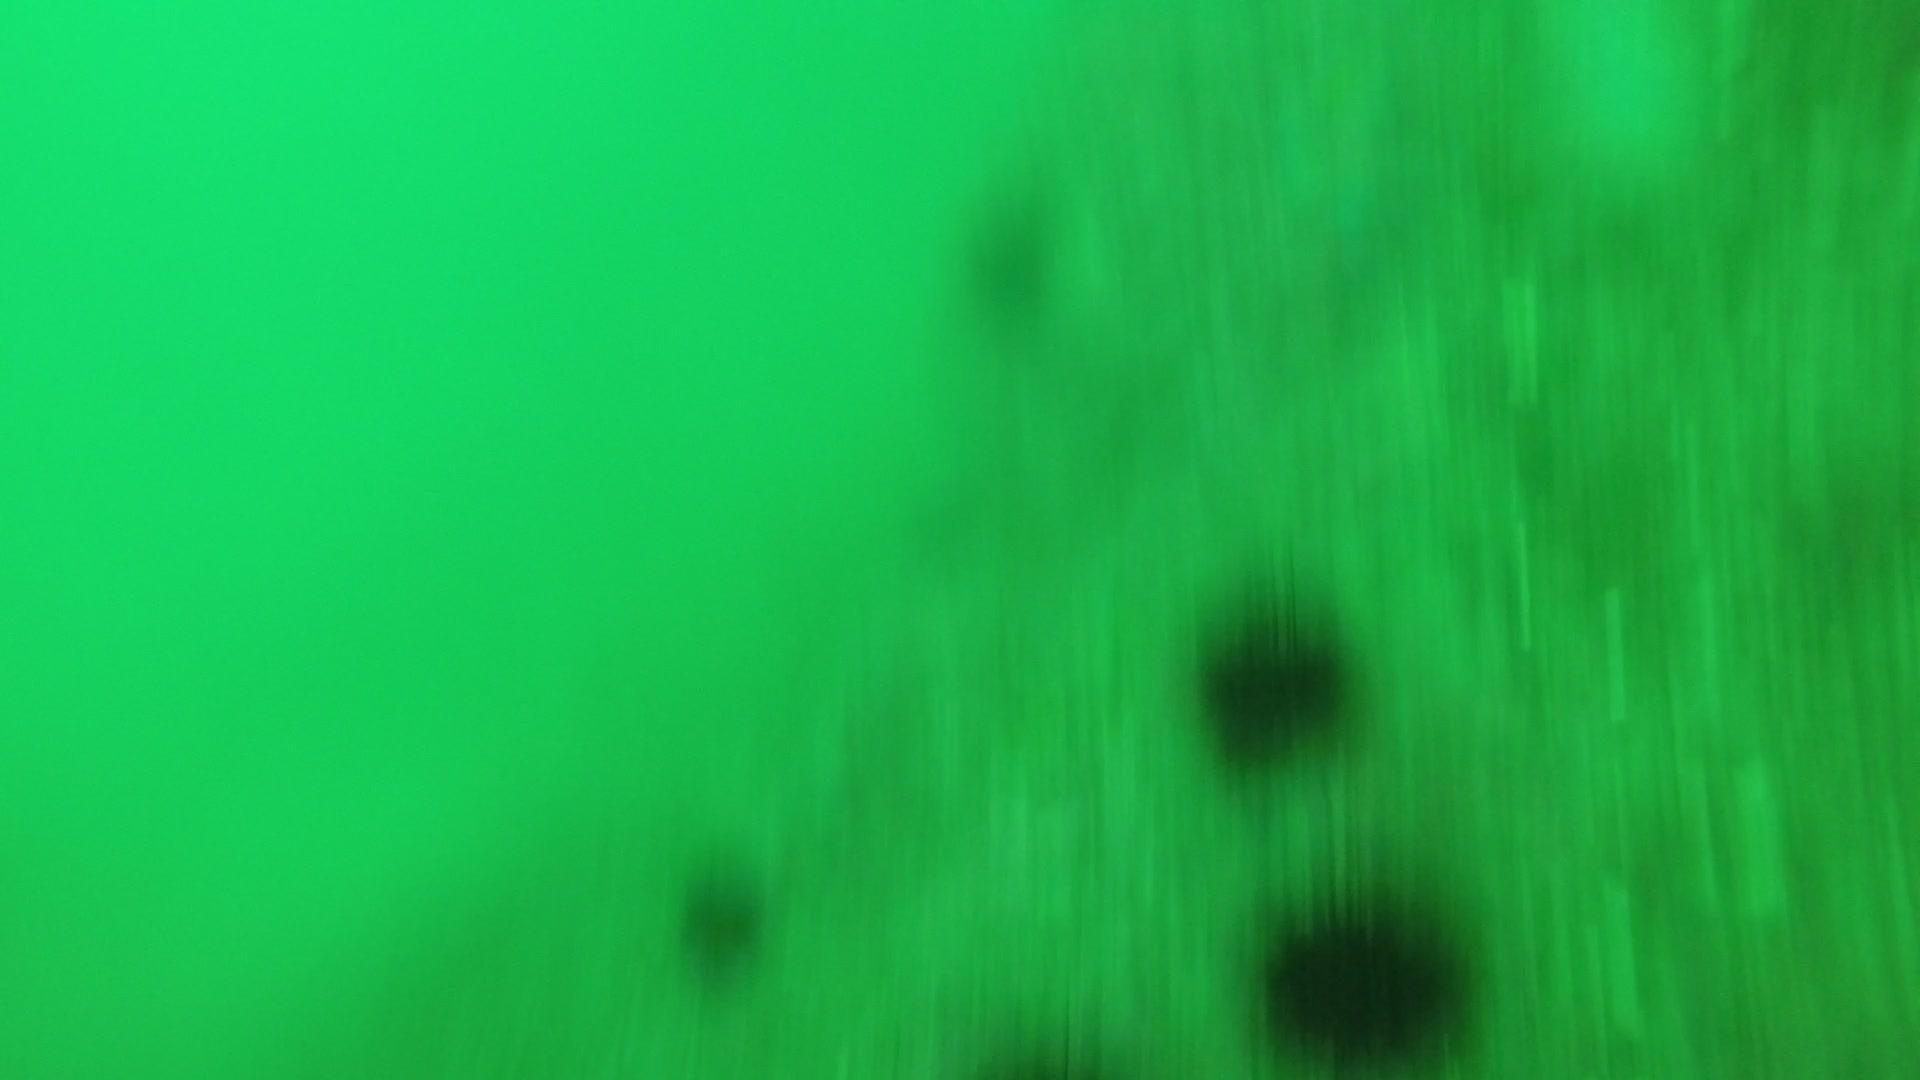echinus: (1246, 874, 1476, 1067), (1187, 593, 1362, 771), (947, 183, 1069, 340), (669, 855, 775, 985)
starfish: (1257, 37, 1420, 247)
